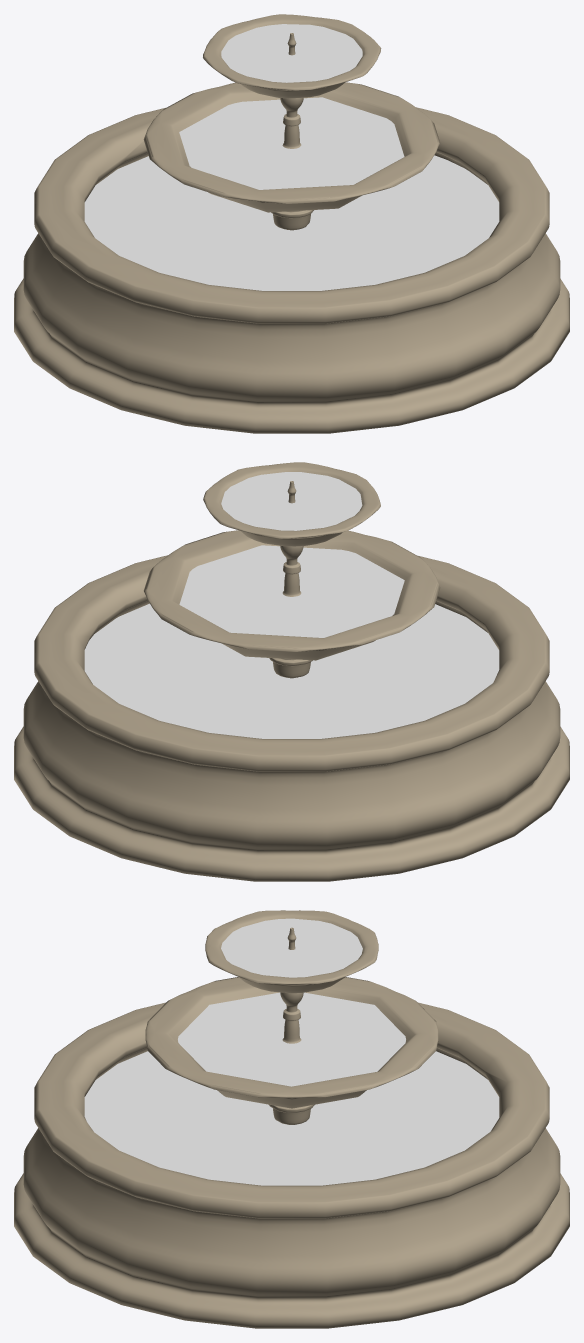
Rendered from Havuz.fbx.
The picture shows the model from 3 angles, top to bottom: view 1: azimuth 30°, elevation 25°; view 2: azimuth 150°, elevation 25°; view 3: azimuth 270°, elevation 25°; orthographic projection.
Parts seen in each view (by area): view 1: Havuz; view 2: Havuz; view 3: Havuz.
Part boxes in pixels (box(x1,y1,x2,y2)): Havuz: box(14, 14, 569, 433); Havuz: box(14, 462, 569, 881); Havuz: box(14, 910, 569, 1328).
Size of the model in its own units: 513 by 288 by 513.
